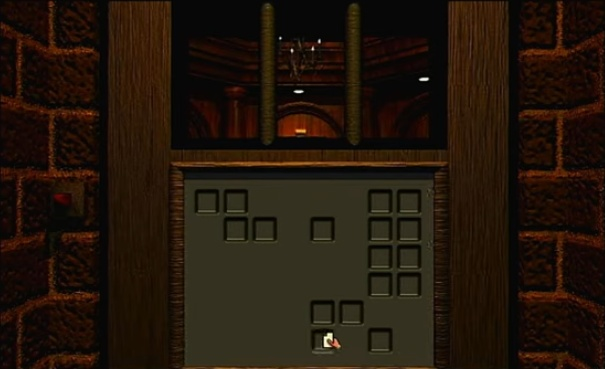Keep: (320, 328, 344, 350)
